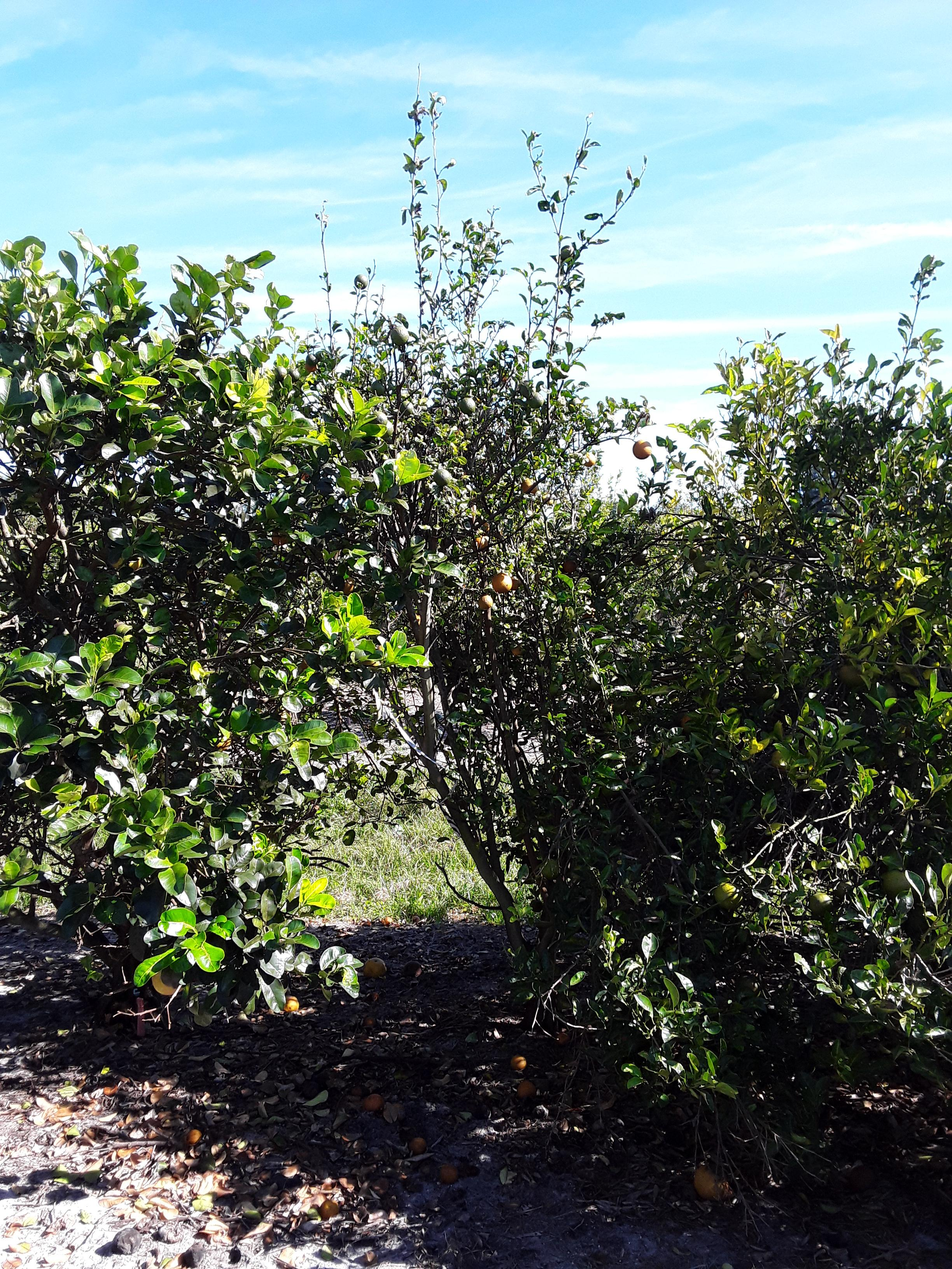fruit_on_ground: (147, 960, 186, 997), (878, 866, 916, 900), (711, 879, 747, 912), (108, 547, 145, 575), (805, 891, 838, 920), (767, 744, 796, 774), (749, 576, 776, 600), (583, 568, 609, 592), (387, 323, 411, 348), (490, 569, 515, 593), (630, 437, 654, 461), (538, 856, 562, 880), (677, 711, 701, 734), (630, 544, 652, 566), (270, 526, 292, 547), (457, 394, 478, 415), (432, 466, 452, 488), (691, 554, 713, 574), (368, 409, 389, 429), (374, 419, 395, 439), (519, 475, 539, 495), (336, 575, 356, 595), (508, 640, 529, 659), (352, 271, 372, 290), (525, 391, 545, 410), (476, 591, 496, 610), (504, 573, 523, 592), (474, 517, 493, 535), (473, 533, 492, 551), (369, 378, 387, 396), (397, 399, 415, 416), (561, 558, 579, 574), (582, 451, 598, 468), (271, 365, 288, 381), (304, 352, 320, 368), (567, 397, 582, 413), (303, 360, 318, 374), (287, 368, 301, 382)
fruit_on_tree: (690, 1162, 733, 1205), (841, 1162, 878, 1194), (360, 955, 388, 981), (436, 1161, 461, 1187), (406, 1133, 430, 1157), (318, 1197, 342, 1220), (515, 1078, 539, 1101), (399, 960, 425, 981), (506, 1051, 530, 1073), (361, 1090, 385, 1112), (280, 993, 302, 1015), (551, 1026, 573, 1047), (183, 1125, 205, 1146), (99, 1080, 122, 1096), (365, 989, 383, 1004), (379, 913, 393, 926), (361, 916, 374, 928)
